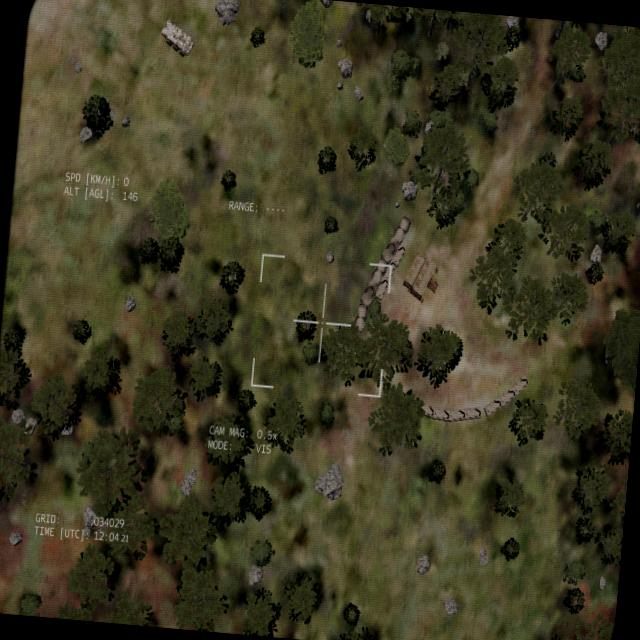apc: (159, 18, 194, 58)
